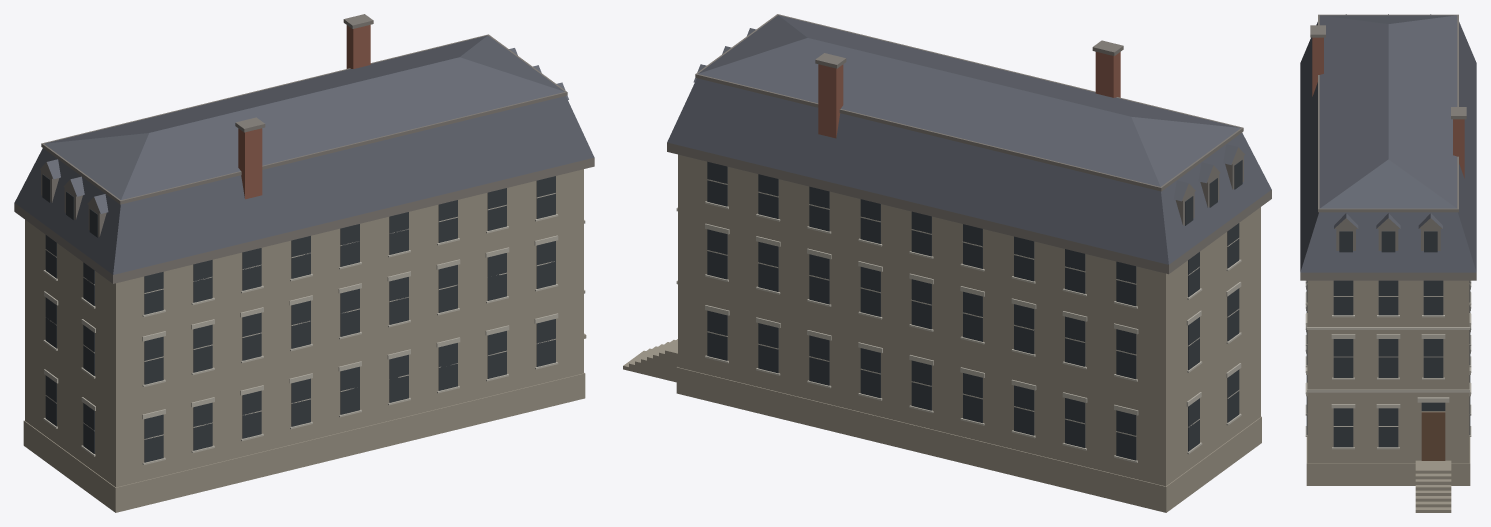
The model's file is sears_meeker_house_1815_prairie__draft_1904.glb.
3 renders of one model, left to right at view 1: azimuth 30°, elevation 25°; view 2: azimuth 150°, elevation 25°; view 3: azimuth 270°, elevation 25°, orthographic. The views are drawn at different scales.
Parts seen in each view (by area): view 1: sears_meeker_house_1815_prairie__draft_1904; view 2: sears_meeker_house_1815_prairie__draft_1904; view 3: sears_meeker_house_1815_prairie__draft_1904.
Part boxes in pixels (x1,y1,x2,y2): sears_meeker_house_1815_prairie__draft_1904: [14, 14, 594, 512]; sears_meeker_house_1815_prairie__draft_1904: [623, 14, 1271, 512]; sears_meeker_house_1815_prairie__draft_1904: [1300, 14, 1476, 512].
Bounding box in the file's own units: 28.15 × 17.54 × 8.95.
